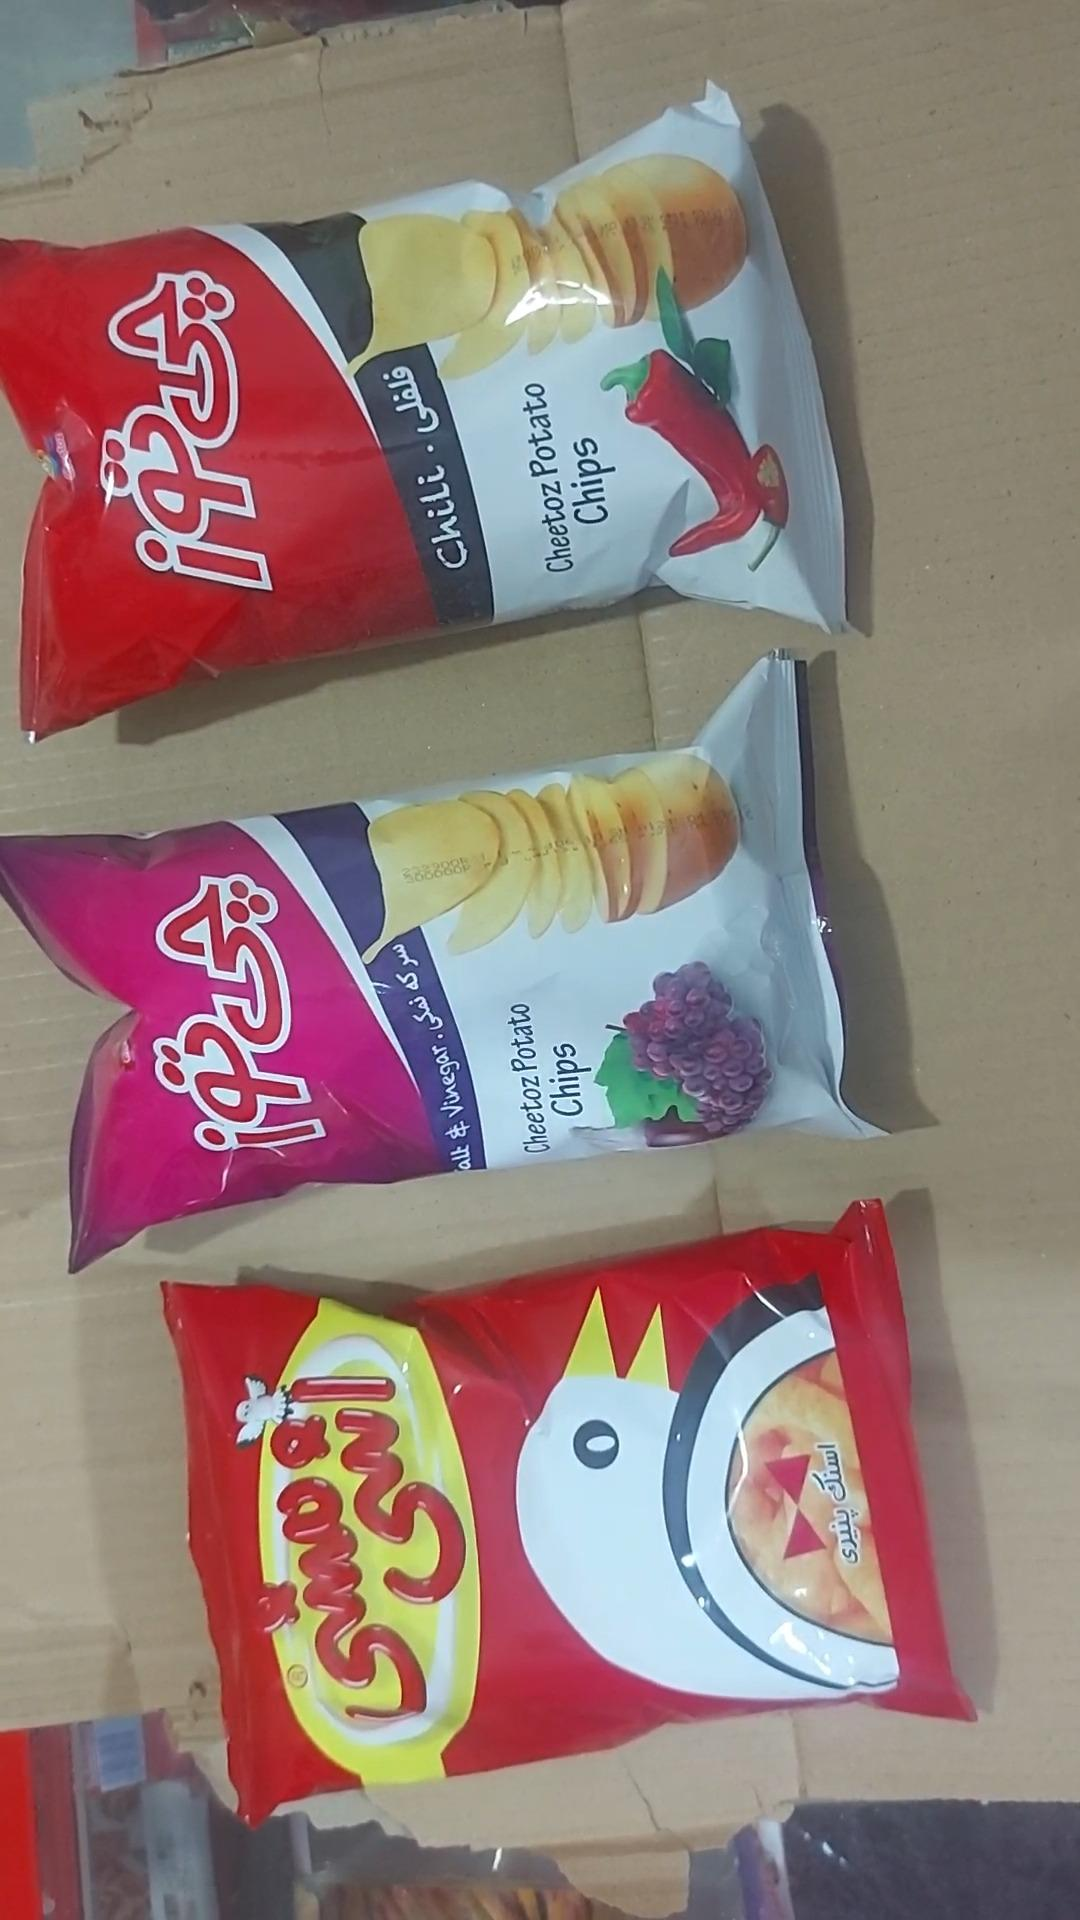Ashi Mashi snacks: (156, 1197, 978, 1828)
Cheetoz chili chips: (0, 76, 847, 744)
